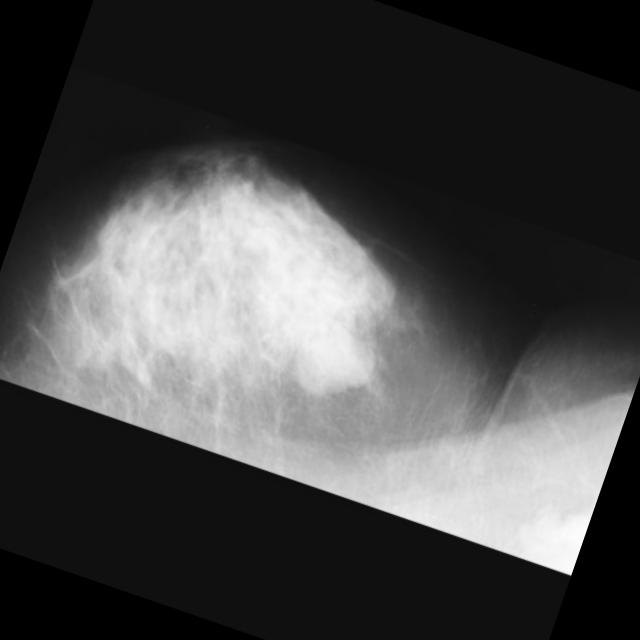CIRC: (302, 316, 385, 399)
